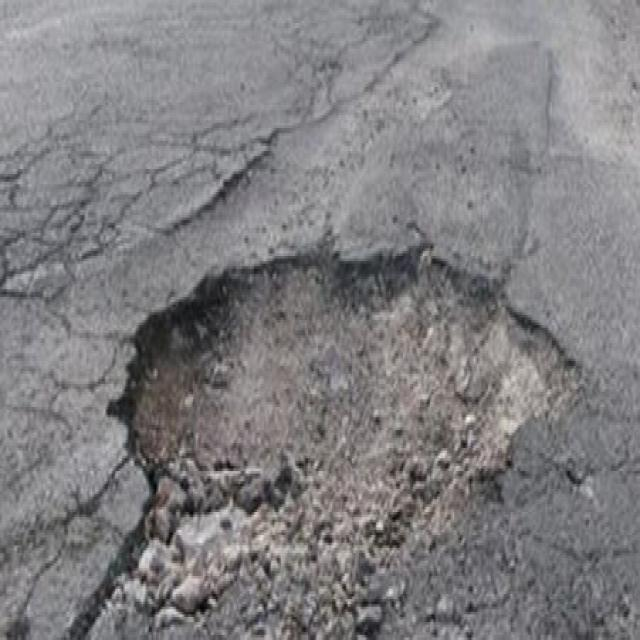Buraco: (58, 237, 598, 640)
